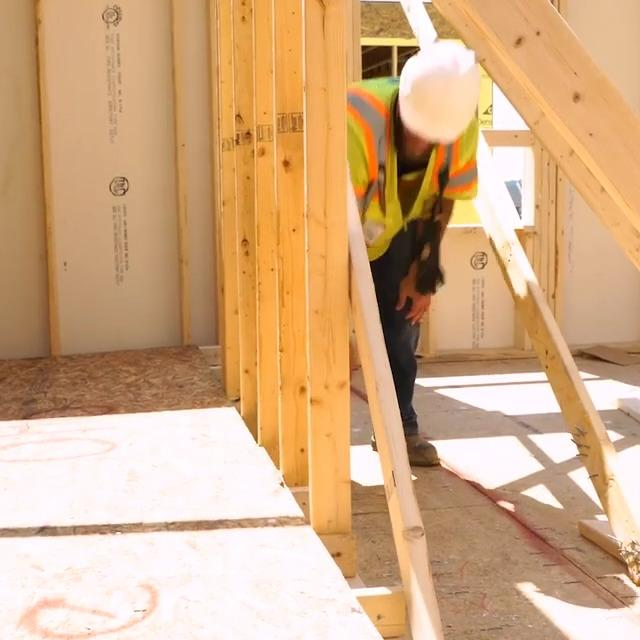Hardhat: (399, 38, 481, 142)
Person: (350, 35, 482, 467)
Safety Vest: (350, 77, 479, 262)
